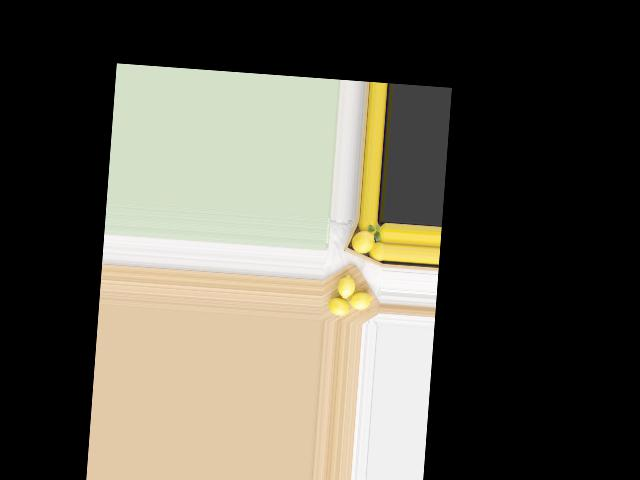lemon: (323, 292, 351, 318)
